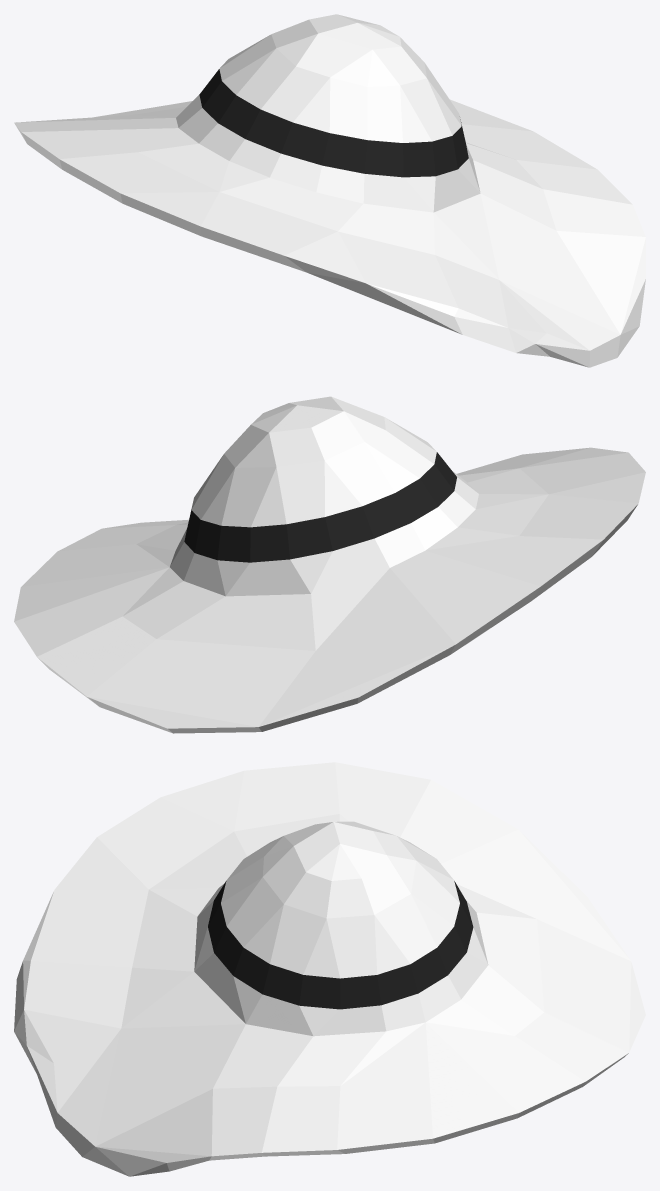
The model's file is Beach_Hat.fbx.
3 renders of one model, top to bottom at view 1: azimuth 30°, elevation 25°; view 2: azimuth 150°, elevation 25°; view 3: azimuth 270°, elevation 25°, orthographic. The views are drawn at different scales.
Visible parts, largest first — view 1: Beachgoer_F_Hat; view 2: Beachgoer_F_Hat; view 3: Beachgoer_F_Hat.
Boxes of the visible parts, x1,y1,x2,y2 form: Beachgoer_F_Hat: (14, 14, 645, 367); Beachgoer_F_Hat: (14, 396, 645, 733); Beachgoer_F_Hat: (14, 762, 645, 1176).
Bounding box in the file's own units: 55.96 × 26.67 × 59.45.
